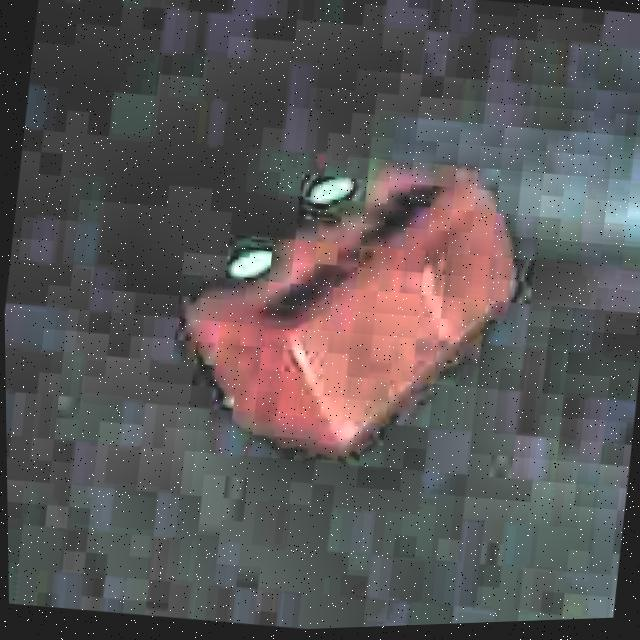bus: (160, 131, 542, 489)
